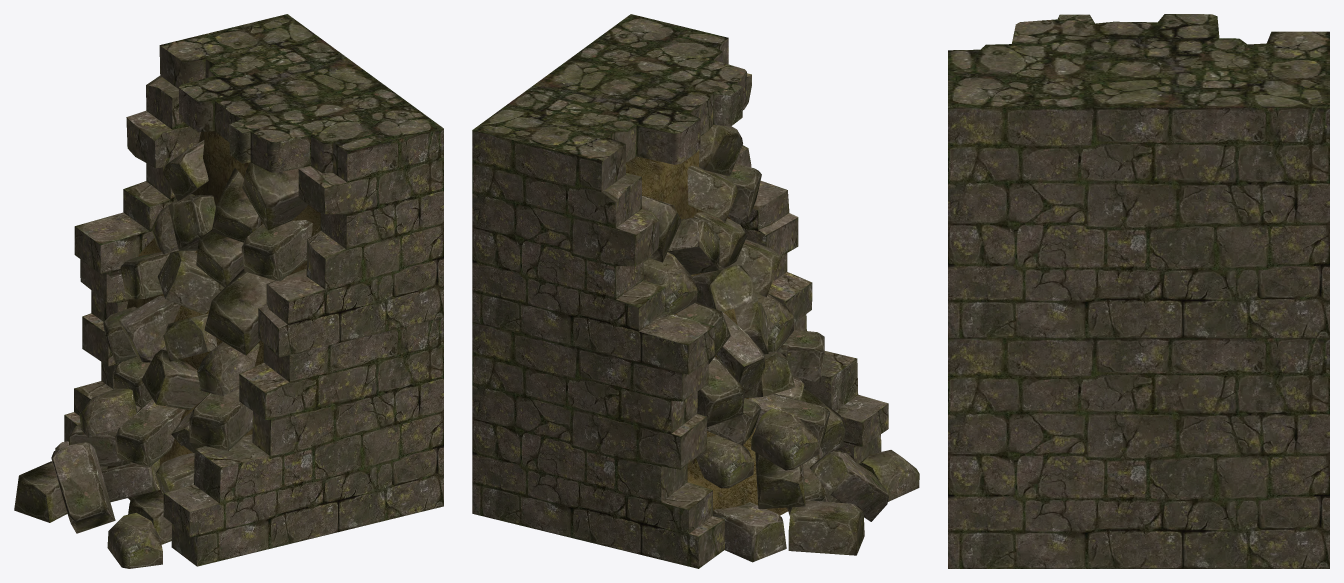
File: Base_Broken_03-transformed.glb
3 renders of one model, left to right at view 1: azimuth 30°, elevation 25°; view 2: azimuth 150°, elevation 25°; view 3: azimuth 270°, elevation 25°, orthographic. The views are drawn at different scales.
Parts seen in each view (by area): view 1: default; view 2: default; view 3: default.
Boxes of the visible parts, x1,y1,x2,y2 form: default: (14,14,443,568); default: (472,14,919,568); default: (948,14,1329,568).
Size of the model in its own units: 7.22 by 8.04 by 6.
Materials: 3 (3 with a texture image).
